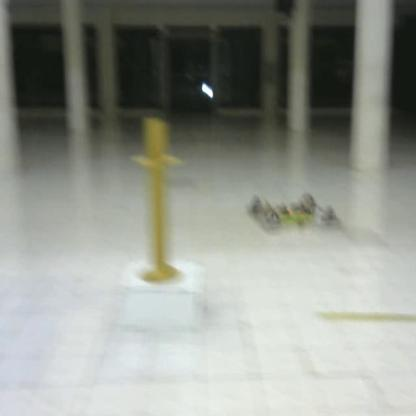pole: (133, 116, 192, 290)
